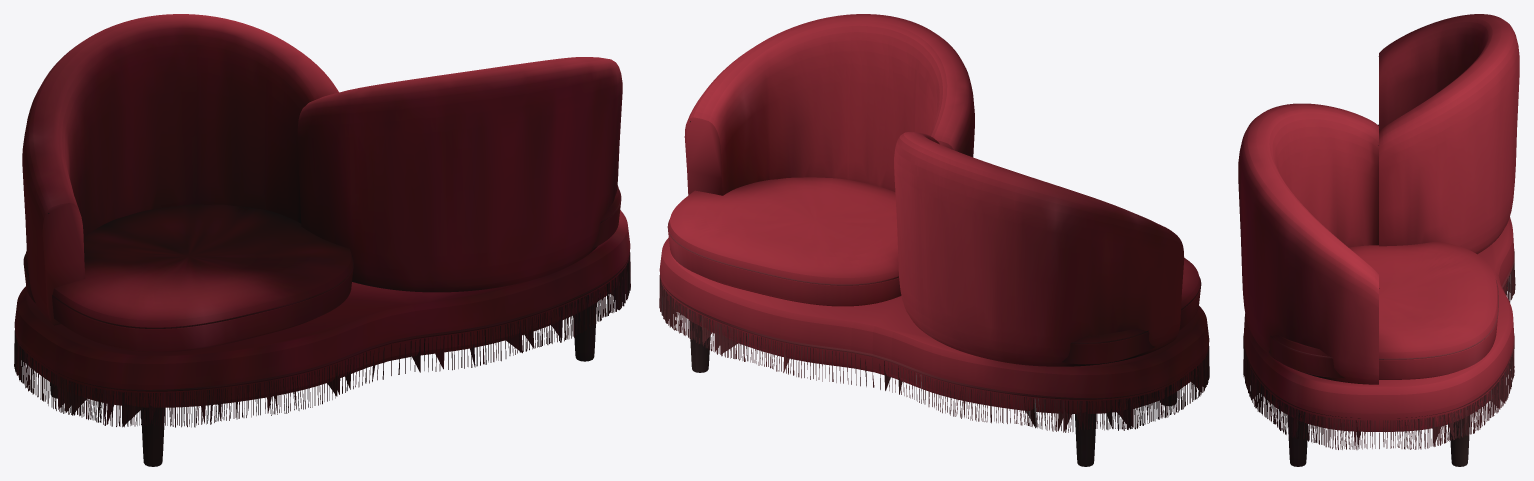
File: double-chair.glb
The picture shows the model from 3 angles, left to right: view 1: azimuth 30°, elevation 25°; view 2: azimuth 150°, elevation 25°; view 3: azimuth 270°, elevation 25°; orthographic projection. The views are drawn at different scales.
Parts seen in each view (by area): view 1: double-chair | F props; view 2: double-chair | F props; view 3: double-chair | F props.
Part boxes in pixels (box(x1,y1,x2,y2)): double-chair | F props: box(14, 14, 630, 466); double-chair | F props: box(659, 14, 1209, 466); double-chair | F props: box(1238, 14, 1519, 466).
Bounding box in the file's own units: 1.77 × 0.9824 × 0.8708.
